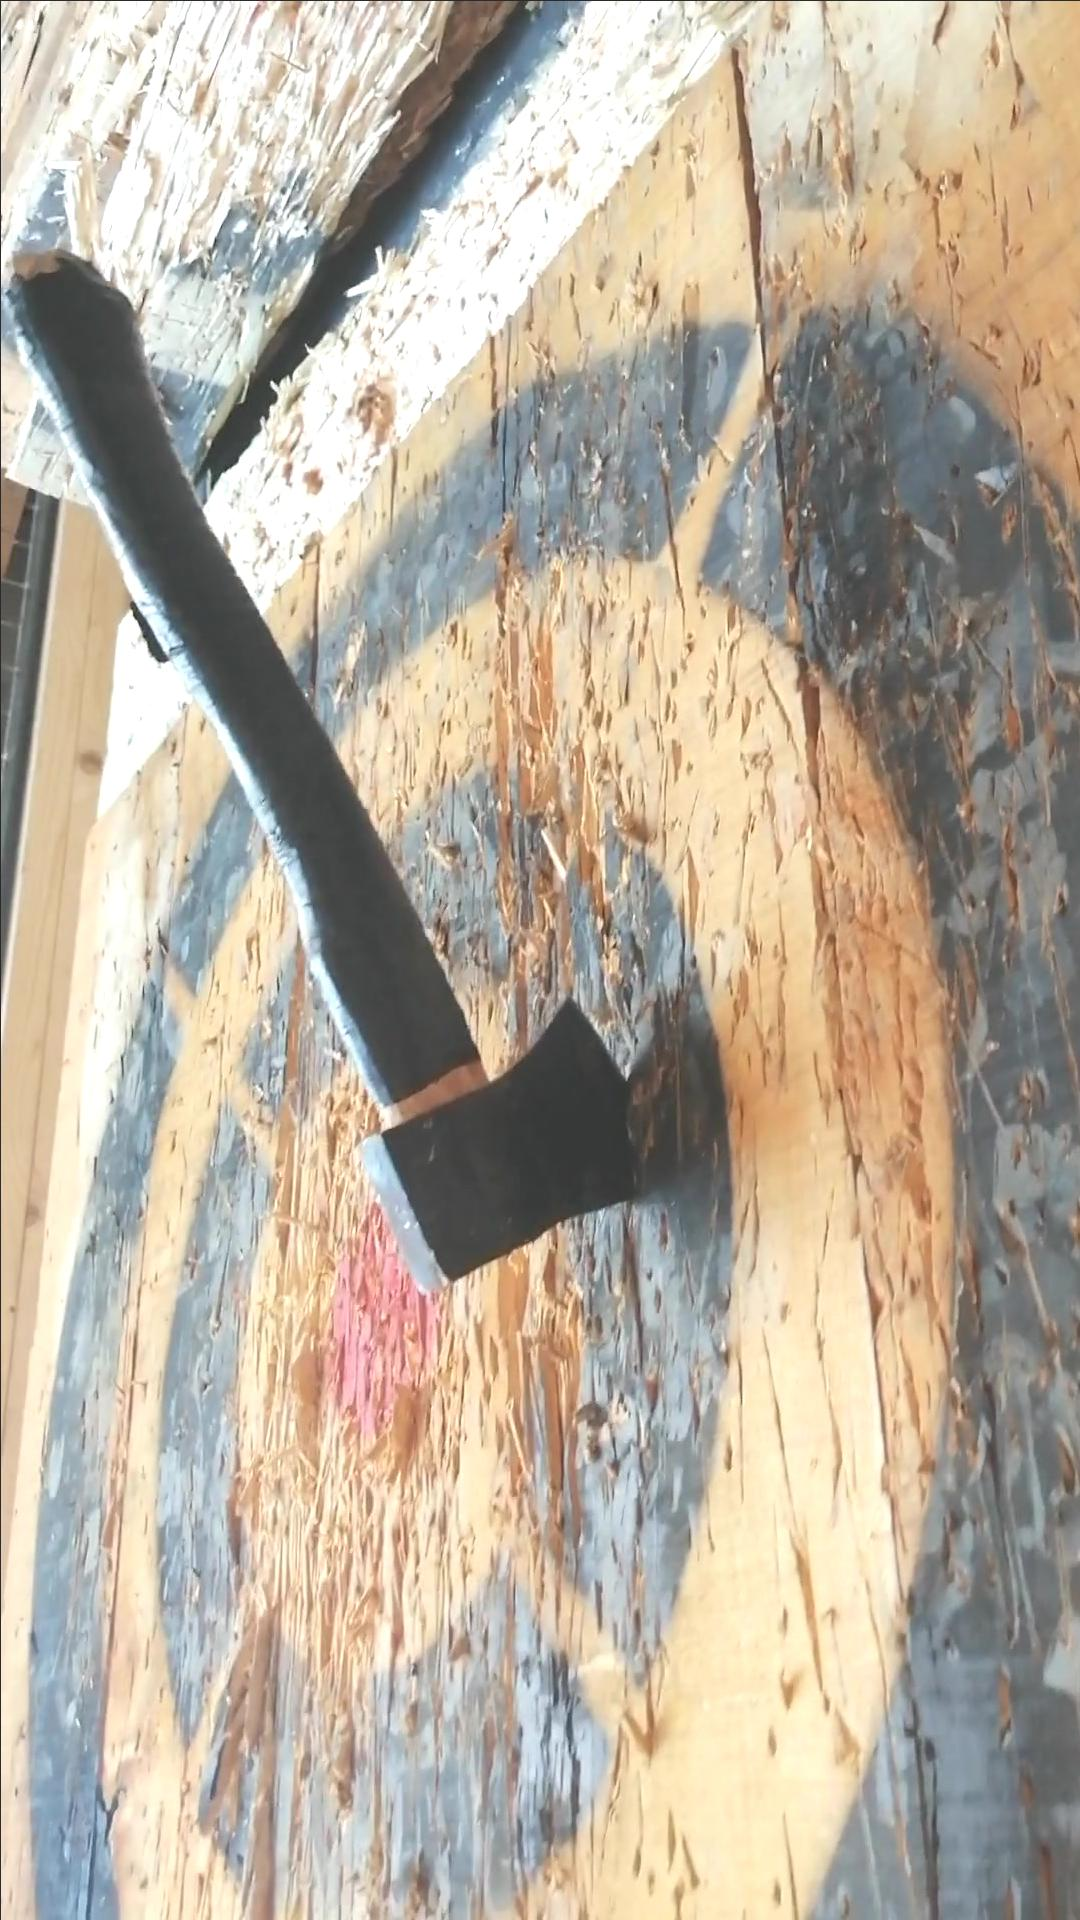Hand Axe: (359, 1005, 632, 1294)
